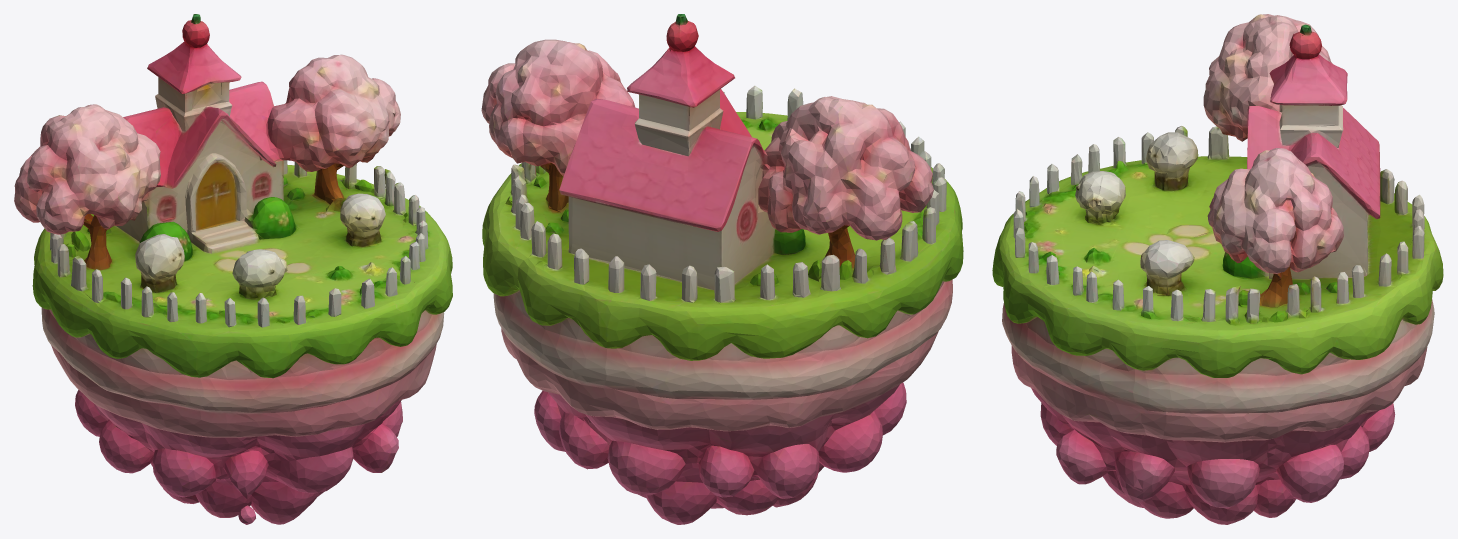
File: title_island.glb
3 views of the same model, side by side, from view 1: azimuth 30°, elevation 25°; view 2: azimuth 150°, elevation 25°; view 3: azimuth 270°, elevation 25° (orthographic). The views are drawn at different scales.
Visible parts, largest first — view 1: geometry_0; view 2: geometry_0; view 3: geometry_0.
Boxes of the visible parts, box(x1,y1,x2,y2) form: geometry_0: box(14, 14, 452, 524); geometry_0: box(481, 14, 963, 524); geometry_0: box(992, 14, 1443, 524).
Size of the model in its own units: 0.854 by 0.9997 by 0.8482.
1 material, 1 textured.
